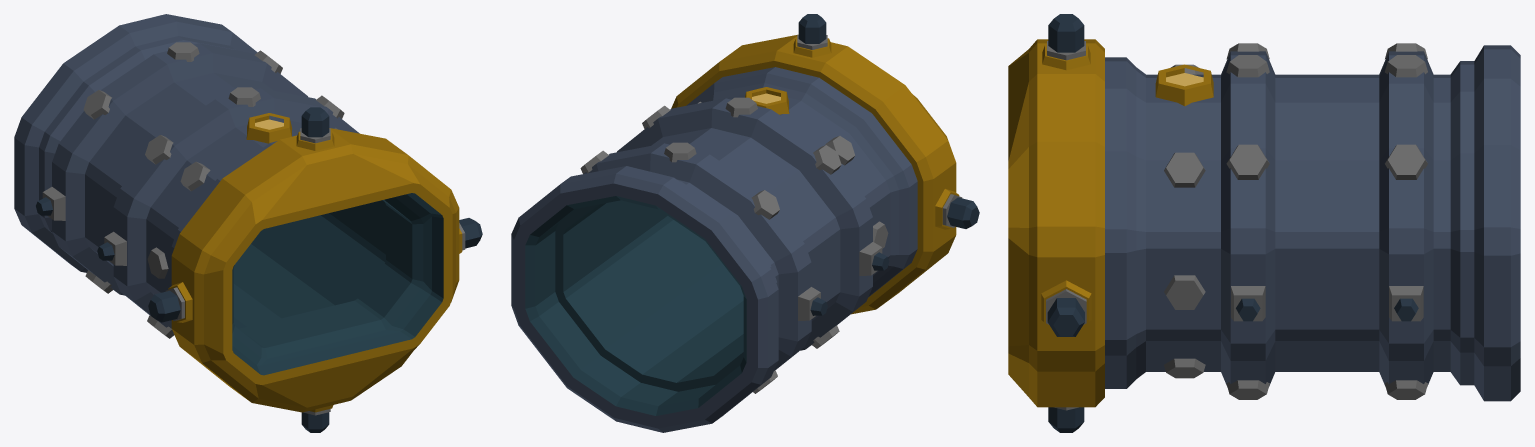
Rendered from whimsical-pipe-connector-cbc857.glb.
The picture shows the model from 3 angles, left to right: view 1: azimuth 30°, elevation 25°; view 2: azimuth 150°, elevation 25°; view 3: azimuth 270°, elevation 25°; orthographic projection. The views are drawn at different scales.
Parts seen in each view (by area): view 1: wrist; view 2: wrist; view 3: wrist.
Part boxes in pixels (<box>): wrist: <box>14,14,482,432</box>; wrist: <box>511,14,979,432</box>; wrist: <box>1008,14,1520,432</box>.
Bounding box in the file's own units: 0.0798 × 0.0749 × 0.0848.
